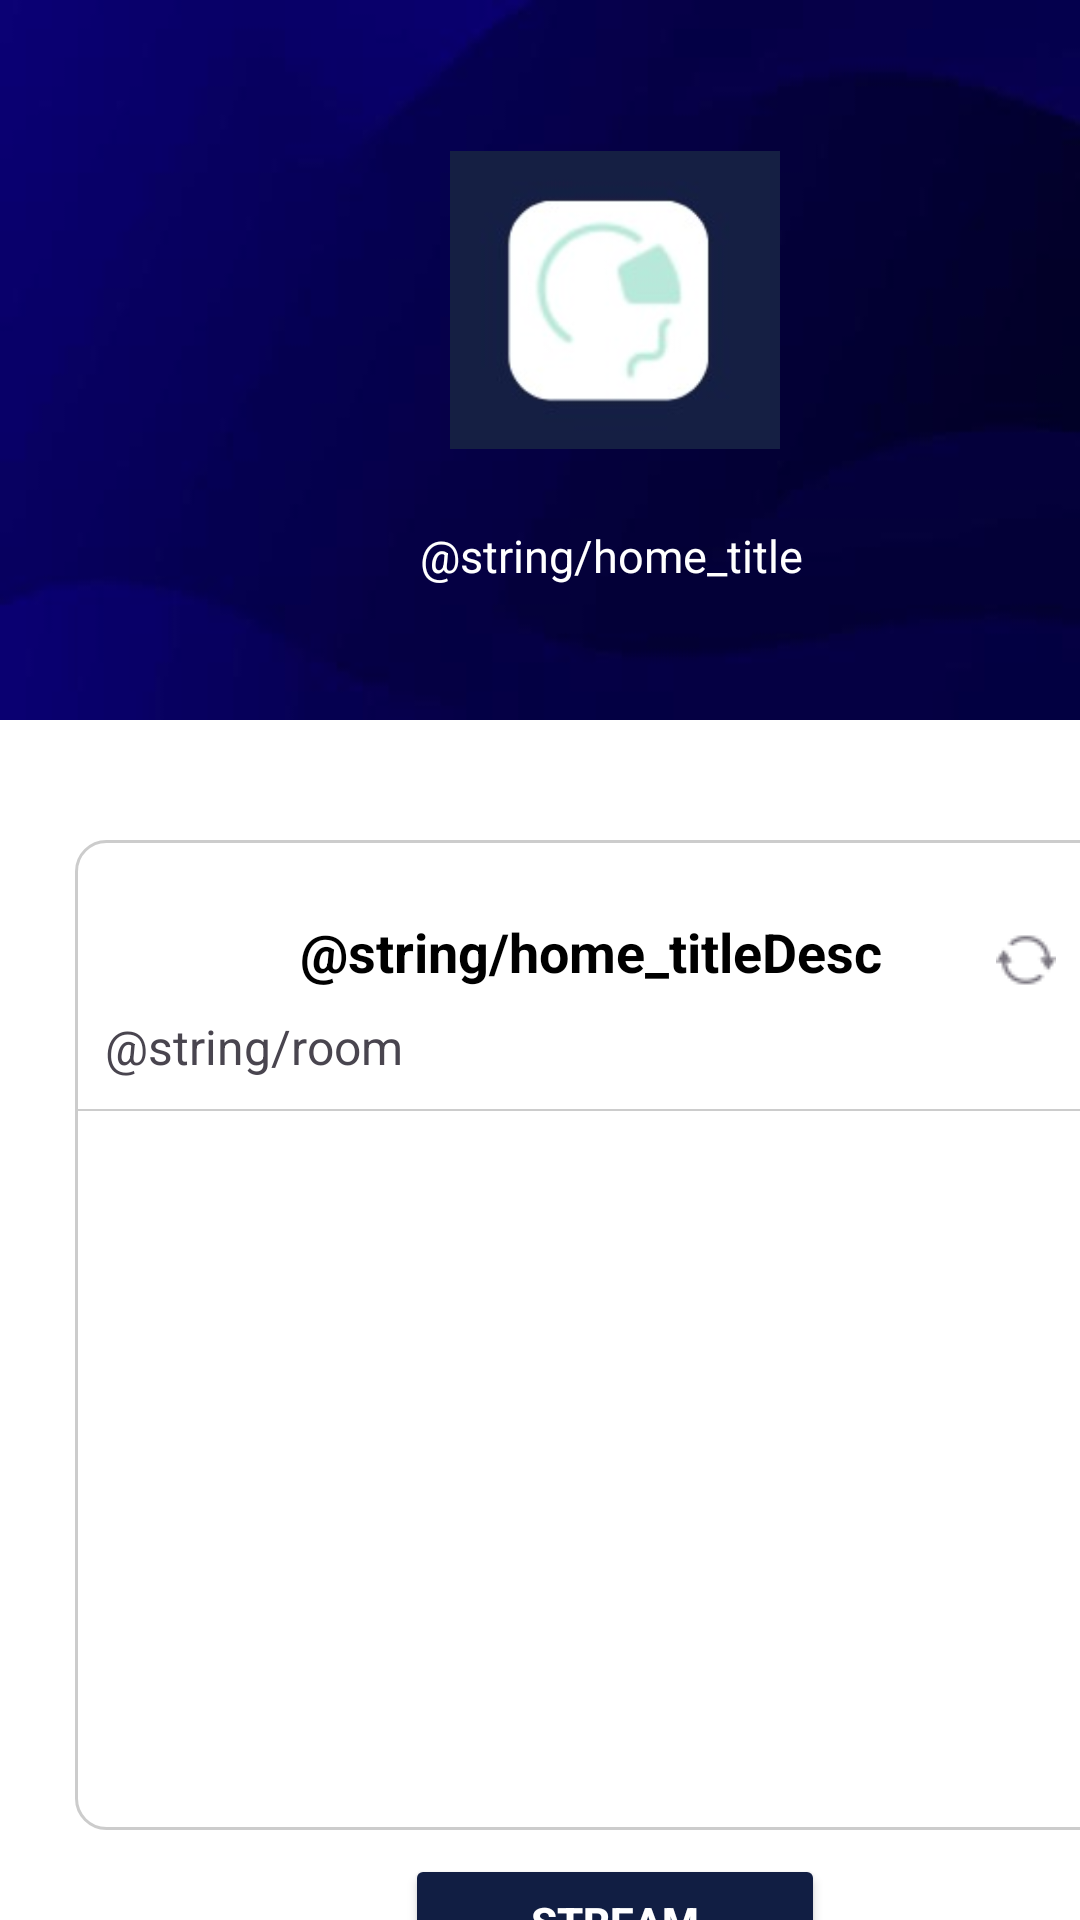

Icon click points for this 1080 × 1920 phone screenshot, format point (x, y):
app: point (615, 300)
refresh: point (1026, 960)
